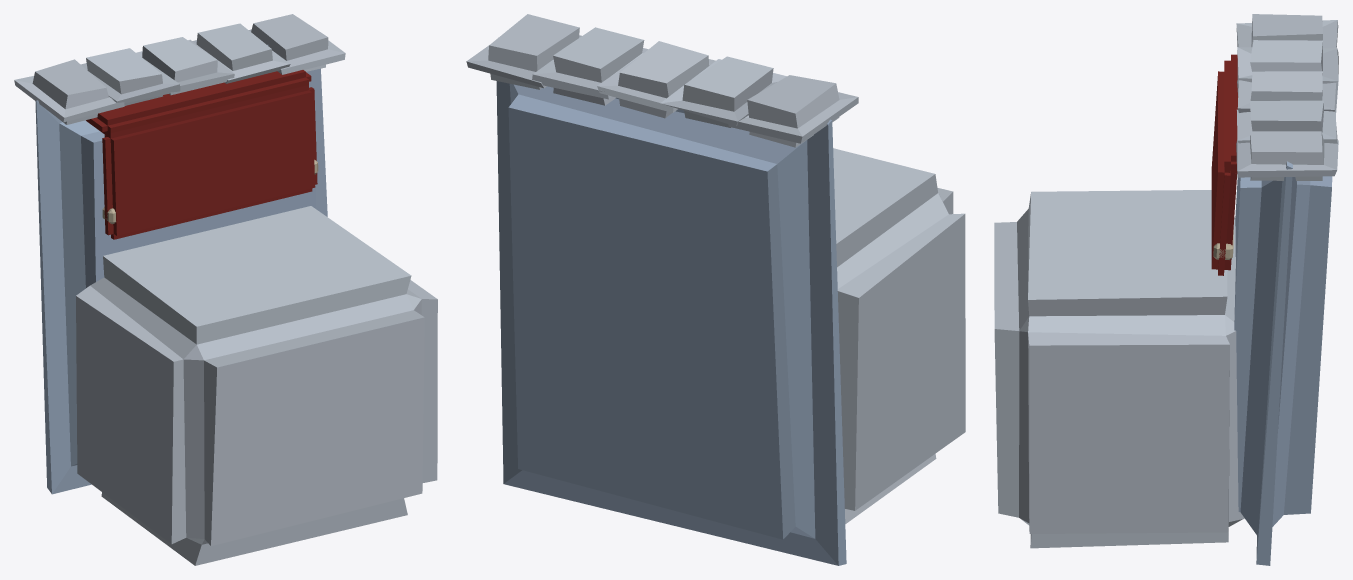
File: koala-seat.glb
3 views of the same model, side by side, from view 1: azimuth 30°, elevation 25°; view 2: azimuth 150°, elevation 25°; view 3: azimuth 270°, elevation 25° (orthographic). The views are drawn at different scales.
Parts seen in each view (by area): view 1: koala-seat-glacier; view 2: koala-seat-glacier; view 3: koala-seat-glacier.
Boxes of the visible parts, left/top/right/bottom form: koala-seat-glacier: left=14, top=14, right=437, bottom=565; koala-seat-glacier: left=466, top=14, right=965, bottom=565; koala-seat-glacier: left=994, top=14, right=1338, bottom=565.
Size of the model in its own units: 0.6277 by 0.8401 by 0.6297.
